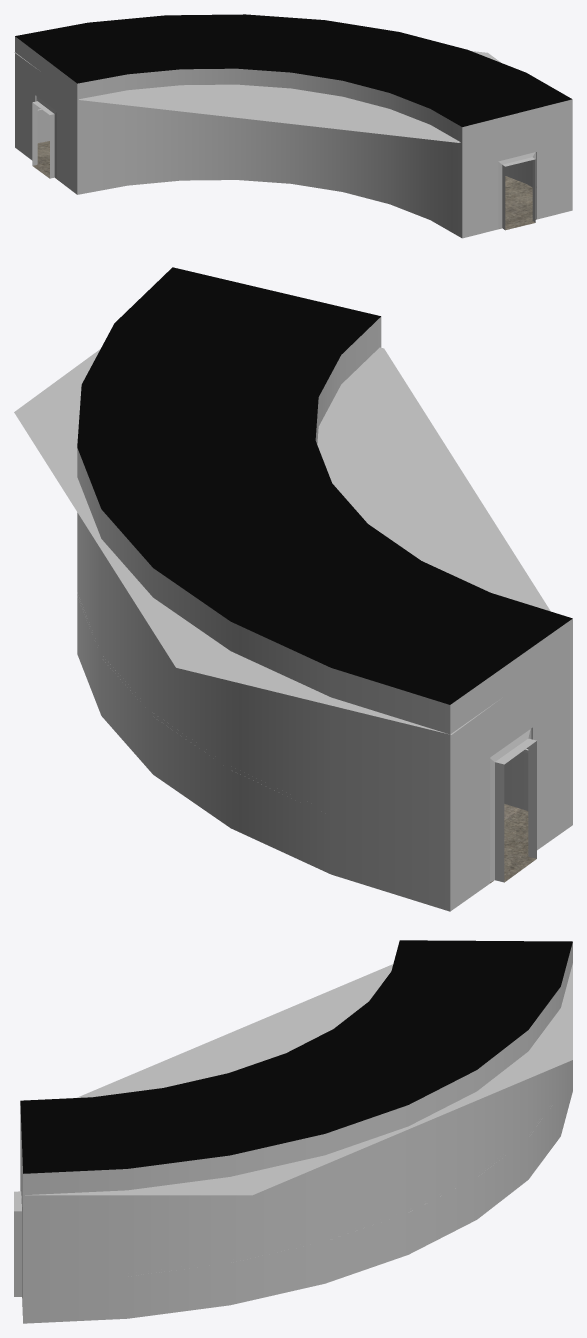
The model's file is HallBend3x3.FBX.
3 renders of one model, top to bottom at view 1: azimuth 30°, elevation 25°; view 2: azimuth 150°, elevation 25°; view 3: azimuth 270°, elevation 25°, orthographic. The views are drawn at different scales.
Parts seen in each view (by area): view 1: HallBend3x3; view 2: HallBend3x3; view 3: HallBend3x3.
Part boxes in pixels (x1=…): HallBend3x3: x1=14, y1=14, x2=572, y2=238; HallBend3x3: x1=14, y1=267, x2=572, y2=911; HallBend3x3: x1=14, y1=940, x2=572, y2=1323.
Size of what is drawn, in the model's own units: 1399 by 413 by 1398.
